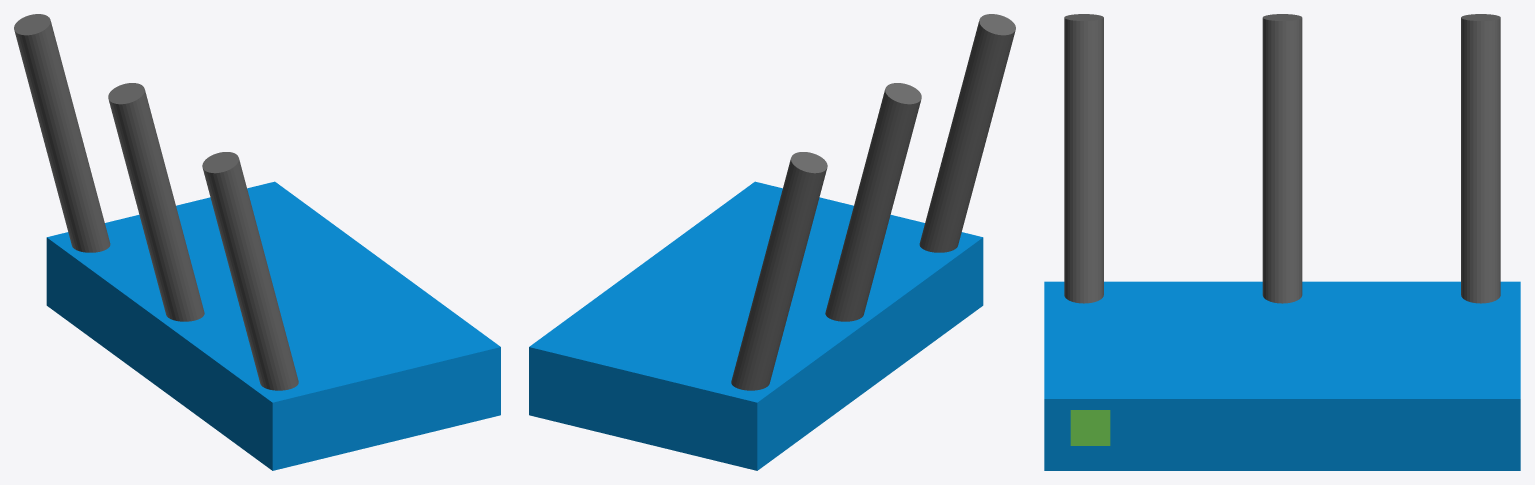
File: Router.fbx
3 views of the same model, side by side, from view 1: azimuth 30°, elevation 25°; view 2: azimuth 150°, elevation 25°; view 3: azimuth 270°, elevation 25° (orthographic). The views are drawn at different scales.
Visible parts, largest first — view 1: Cylinder; view 2: Cylinder; view 3: Cylinder.
Boxes of the visible parts, <box> form: Cylinder: <box>14,14,500,470</box>; Cylinder: <box>529,14,1015,470</box>; Cylinder: <box>1044,14,1520,470</box>.
Size of the model in its own units: 425 by 450 by 600.
